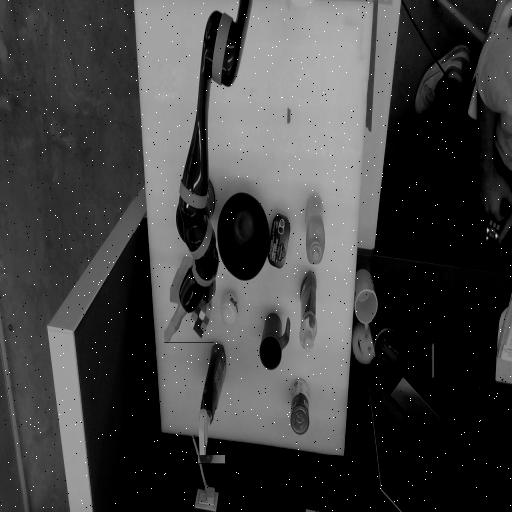bowl: (217, 210, 268, 262)
cleanser: (300, 271, 316, 350)
coffee_can: (176, 174, 214, 245)
jaco: (165, 268, 214, 342)
meat_can: (267, 230, 289, 251)
mug: (259, 313, 289, 369)
mustard_bottle: (305, 219, 324, 238)
rubik: (190, 295, 212, 338)
soup_can: (291, 379, 308, 434)
tennis_ball: (221, 294, 238, 324)
windex: (198, 345, 225, 463)
wooden_block: (170, 268, 195, 293)
workspace: (135, 3, 372, 455)
